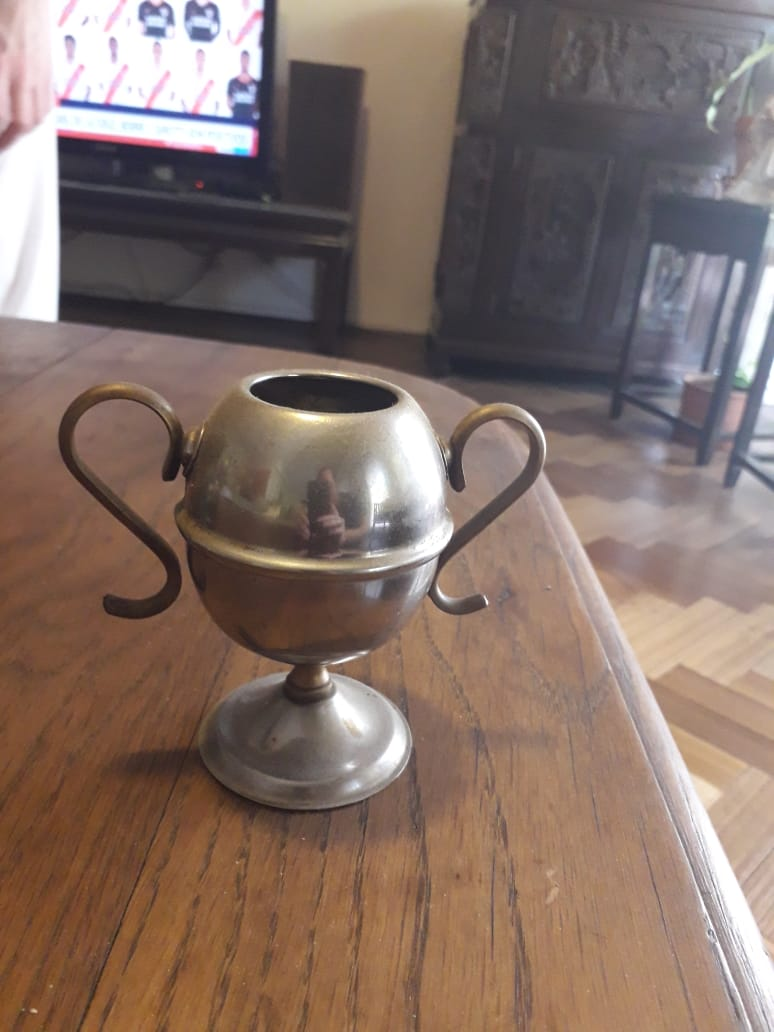mate: (55, 366, 551, 814)
metal: (53, 364, 549, 812)
